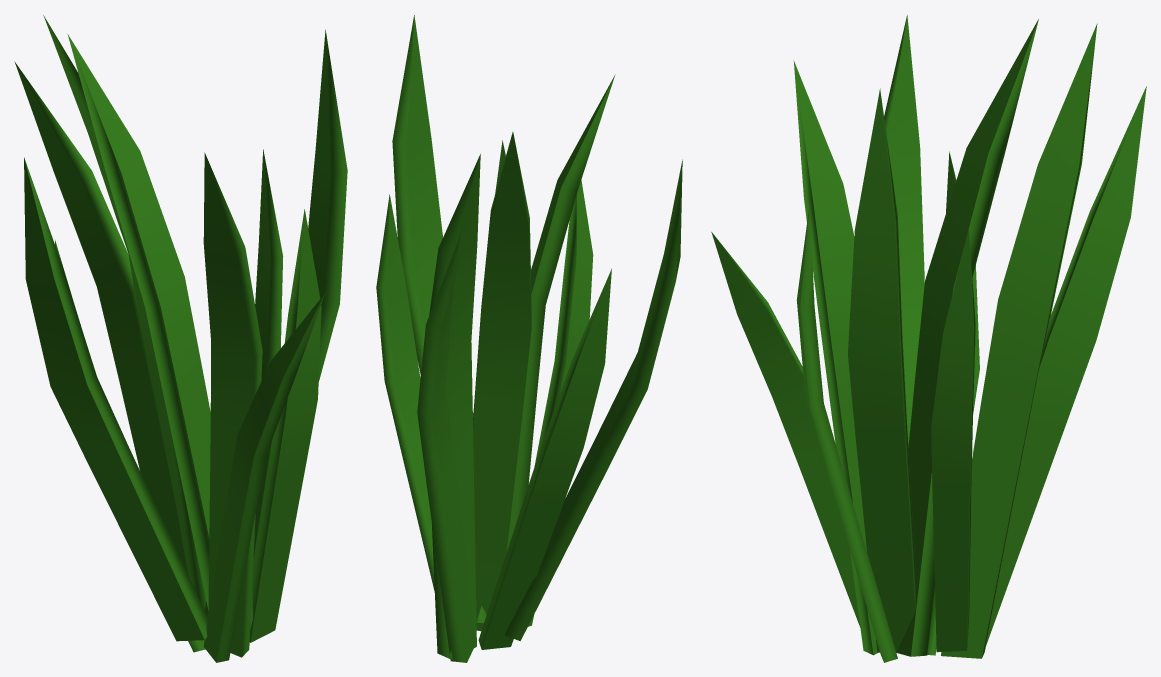
The model's file is Herb.fbx.
3 views of the same model, side by side, from view 1: azimuth 30°, elevation 25°; view 2: azimuth 150°, elevation 25°; view 3: azimuth 270°, elevation 25° (orthographic). The views are drawn at different scales.
Parts seen in each view (by area): view 1: Herb; view 2: Herb; view 3: Herb.
Part boxes in pixels (bbox=[...]): Herb: bbox=[14, 15, 347, 662]; Herb: bbox=[376, 15, 682, 662]; Herb: bbox=[711, 15, 1146, 662].
Bounding box in the file's own units: 0.0927 × 0.1776 × 0.114.
